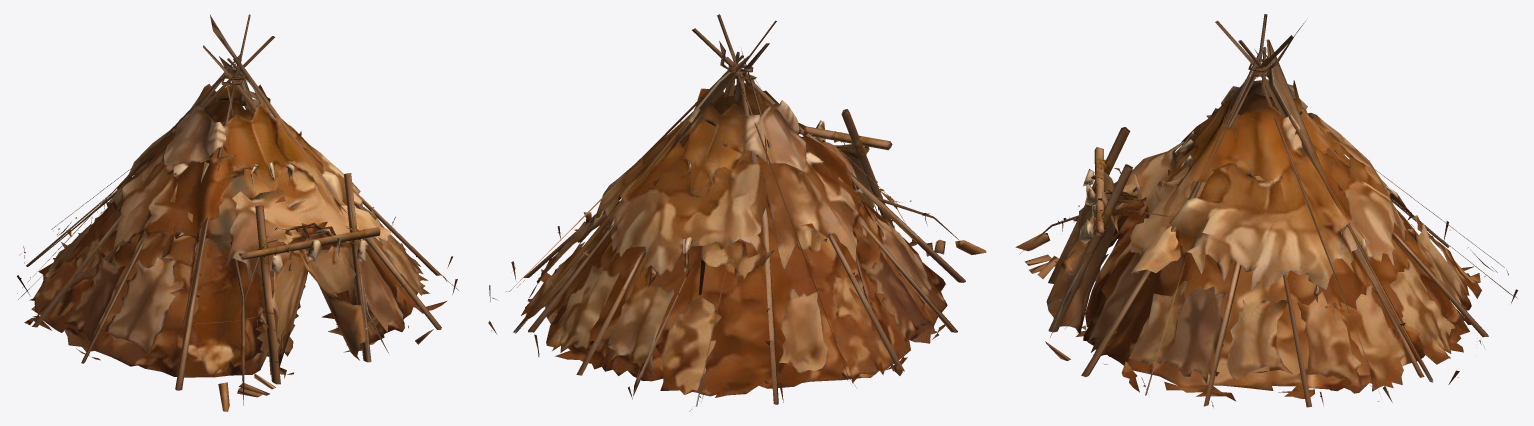
Rendered from zelt2.glb.
The picture shows the model from 3 angles, left to right: view 1: azimuth 30°, elevation 25°; view 2: azimuth 150°, elevation 25°; view 3: azimuth 270°, elevation 25°; orthographic projection. The views are drawn at different scales.
Size of the model in its own units: 0.8916 by 0.6157 by 0.9521.
Materials: 1 (1 with a texture image).
